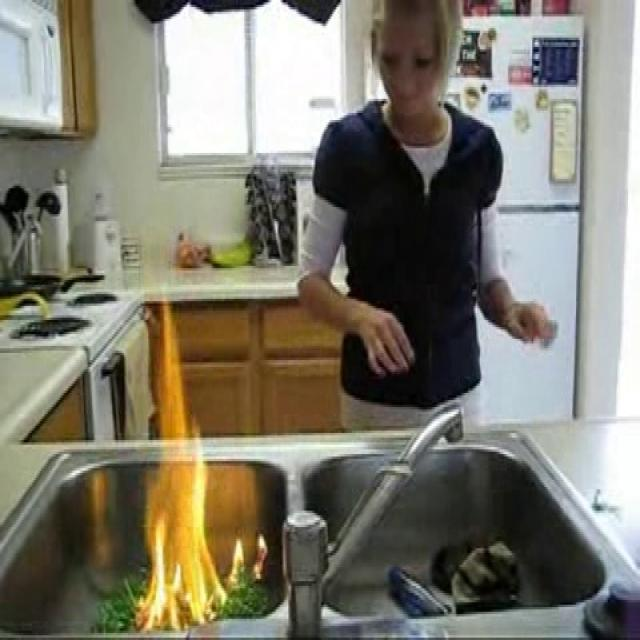fire: (139, 294, 225, 626)
